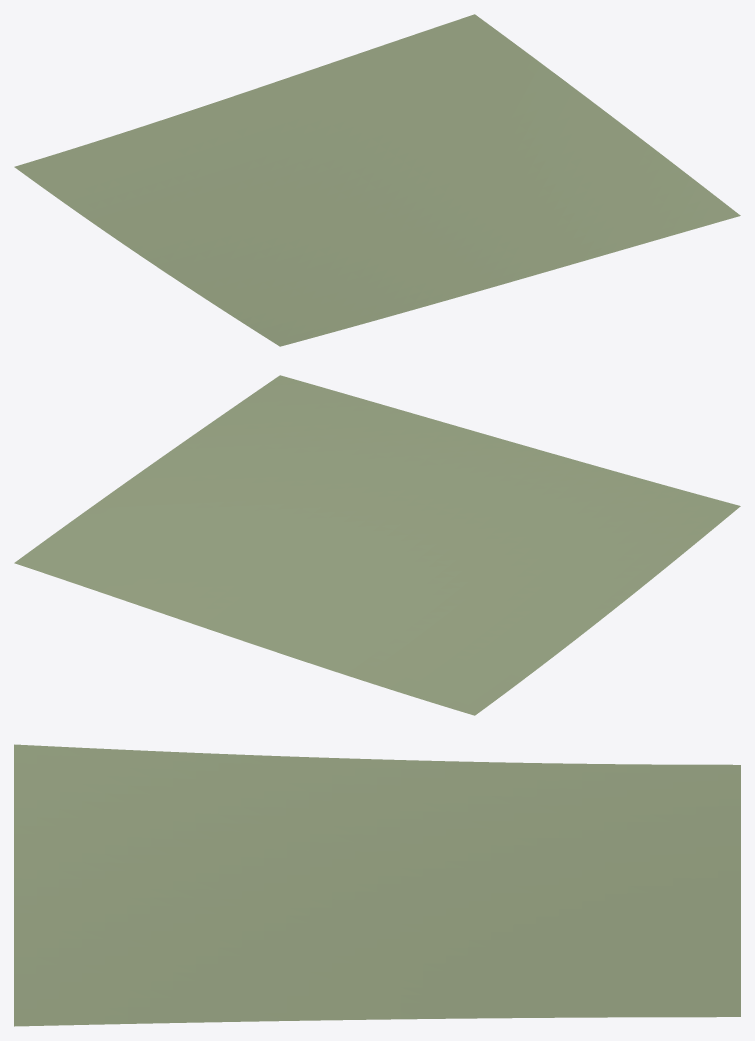
File: canyon-4-0.glb
The picture shows the model from 3 angles, top to bottom: view 1: azimuth 30°, elevation 25°; view 2: azimuth 150°, elevation 25°; view 3: azimuth 270°, elevation 25°; orthographic projection. The views are drawn at different scales.
Visible parts, largest first — view 1: canyon-4-0; view 2: canyon-4-0; view 3: canyon-4-0.
Boxes of the visible parts, x1=… form: canyon-4-0: x1=14, y1=14, x2=740, y2=346; canyon-4-0: x1=14, y1=375, x2=740, y2=715; canyon-4-0: x1=14, y1=744, x2=740, y2=1026.
Bounding box in the file's own units: 128 × 10.67 × 128.
